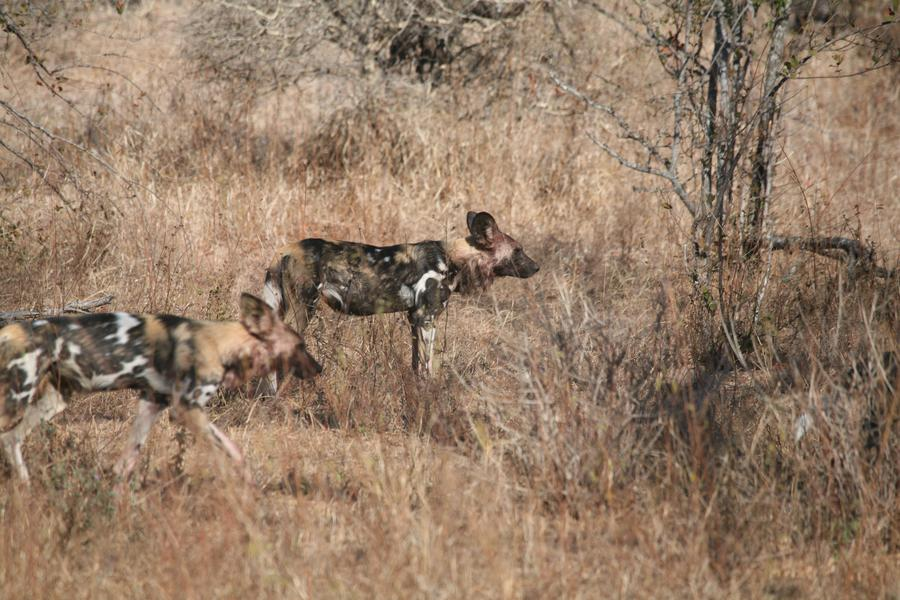wilddog: (15, 315, 312, 449), (261, 217, 538, 301)
